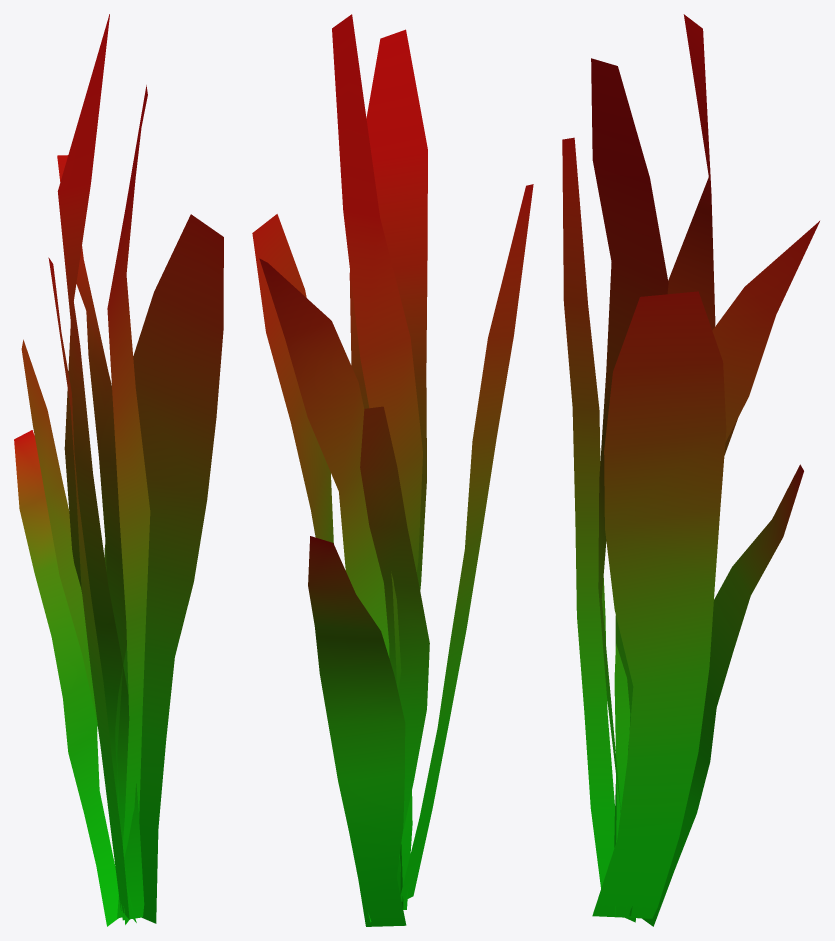
The model's file is Snake Plant_LOD2_Var6_sgtmY.fbx.
3 views of the same model, side by side, from view 1: azimuth 30°, elevation 25°; view 2: azimuth 150°, elevation 25°; view 3: azimuth 270°, elevation 25° (orthographic). The views are drawn at different scales.
Visible parts, largest first — view 1: _e67e_Var6_LOD2; view 2: _e67e_Var6_LOD2; view 3: _e67e_Var6_LOD2.
Part boxes in pixels (<box>): _e67e_Var6_LOD2: <box>14,14,223,926</box>; _e67e_Var6_LOD2: <box>252,14,533,926</box>; _e67e_Var6_LOD2: <box>562,14,819,926</box>.
Bounding box in the file's own units: 30.34 × 124 × 31.71.
